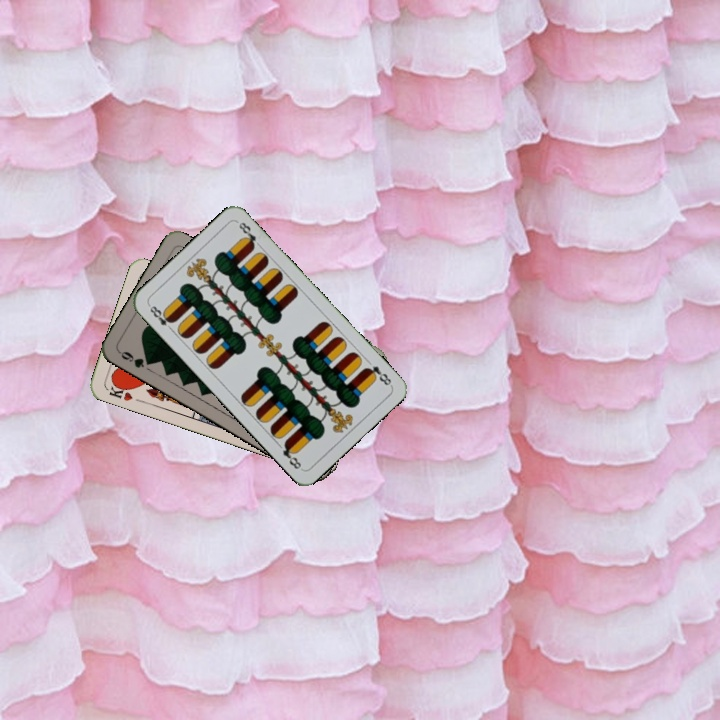E8: (145, 301, 177, 334), (360, 362, 394, 388)
G9: (115, 347, 155, 371)
HK: (103, 379, 135, 404)
